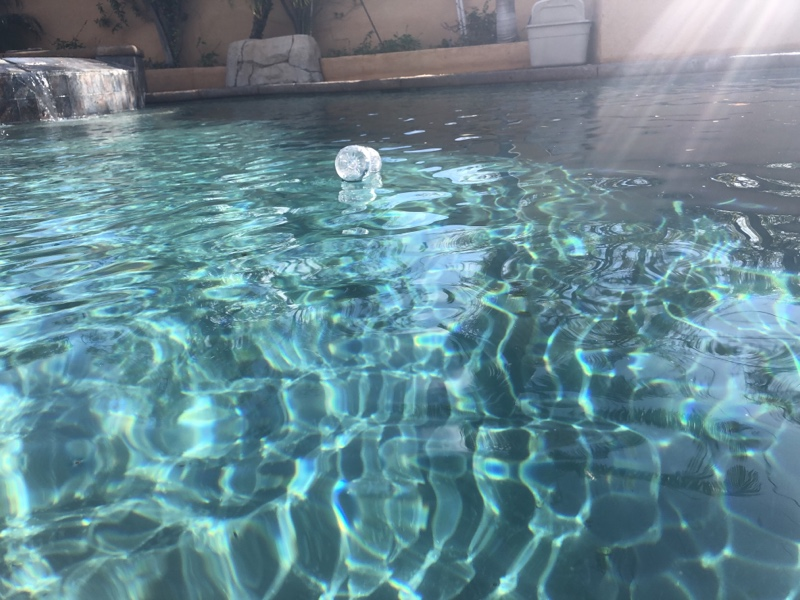Plastic Bottle: (329, 141, 382, 184)
